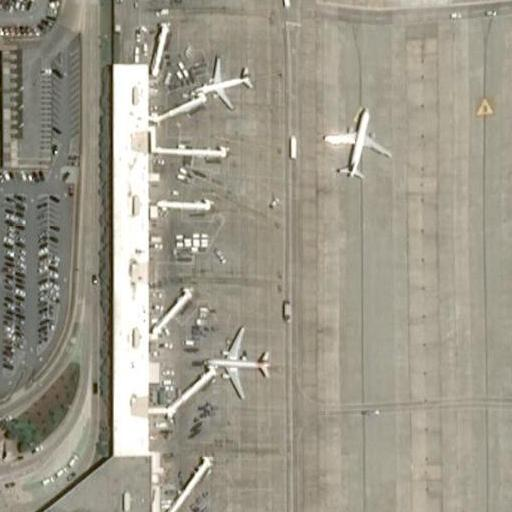Aircraft: (203, 325, 276, 399), (325, 100, 386, 178), (188, 53, 255, 112)
